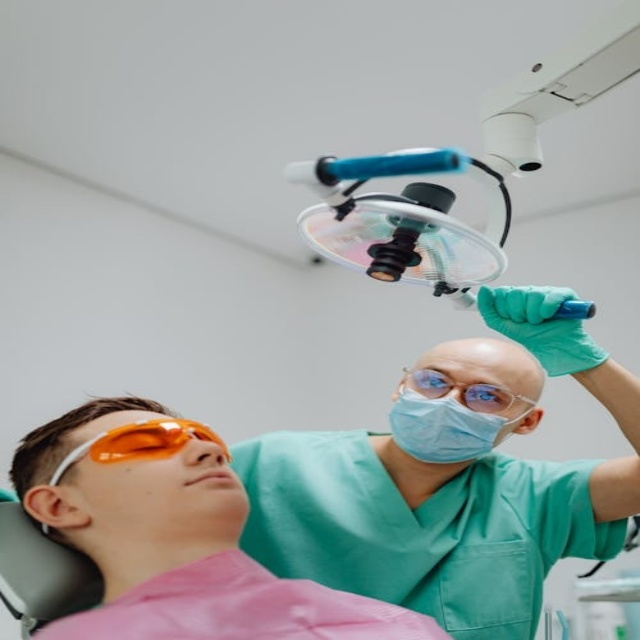Gafas: (52, 420, 241, 484), (398, 357, 544, 417)
Guantes: (477, 284, 609, 375)
Mascara: (384, 382, 534, 463)
Sin_mascara: (170, 467, 242, 497)
